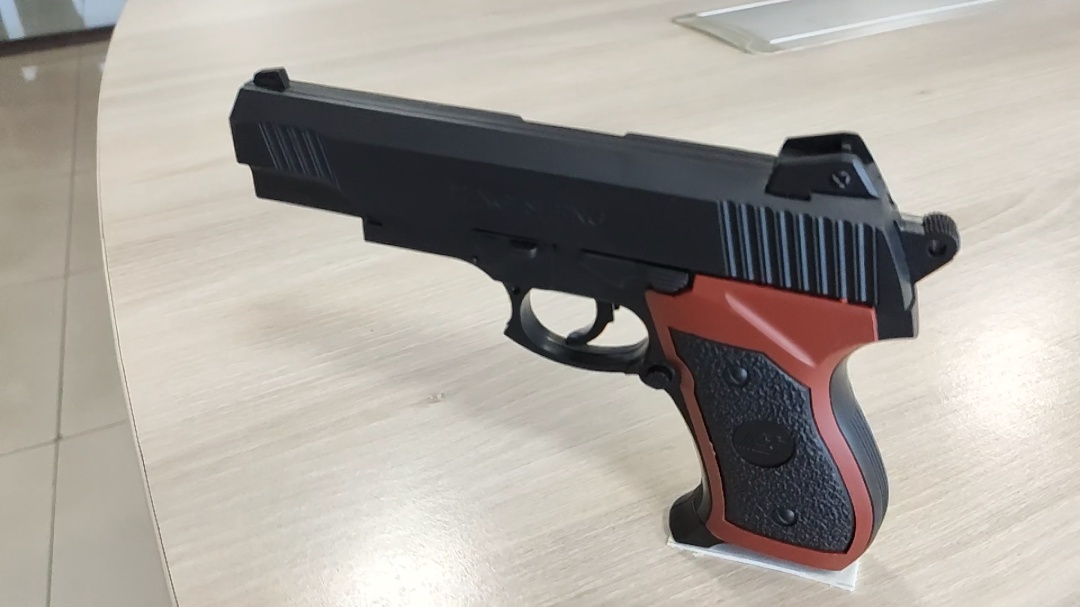gun: (225, 66, 964, 578)
